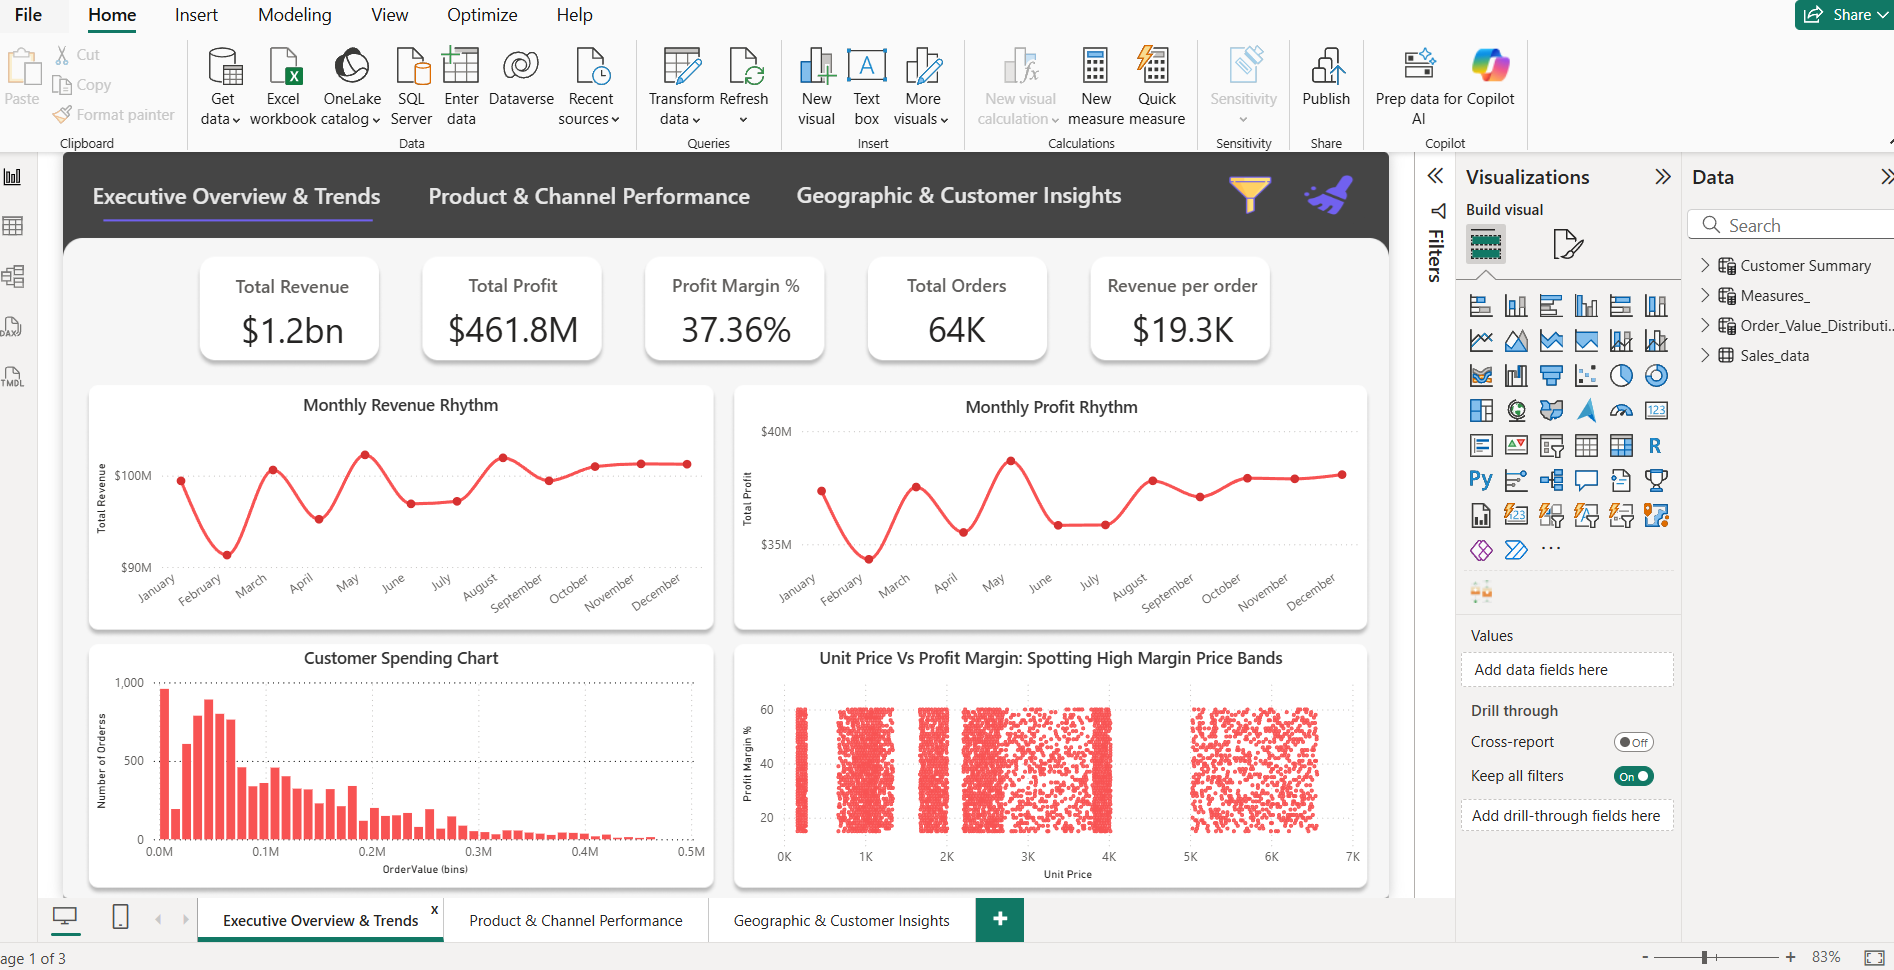

Layout of this report page (visuals, bound fields, positions):
{"tool":"powerbi","page":{"name":"Executive Overview & Trends","canvas":[1280,720],"ordinal":0},"visuals":[{"type":"cardVisual","fields":{"Data":["Measures_.Total Revenue"]},"box":[142,101,158,104],"z":0},{"type":"cardVisual","fields":{"Data":["Measures_.Total Profit"]},"box":[350,100,169.2,103.8],"z":1000},{"type":"cardVisual","fields":{"Data":["Measures_.Profit Margin %"]},"box":[552.6,100,194.9,103.8],"z":2000},{"type":"cardVisual","fields":{"Data":["Measures_.Total Orders"]},"box":[787.2,100,152.6,103.8],"z":3000},{"type":"cardVisual","fields":{"Data":["Measures_.Revenue per order"]},"box":[988.3,100,185,103.3],"z":4000},{"type":"lineChart","title":"Monthly Revenue Rhythm","fields":{"Category":["Sales_data.order_month_name"],"Y":["Measures_.Total Revenue"]},"box":[26.9,233.3,598.7,235.9],"z":5000},{"type":"lineChart","title":"Monthly Profit Rhythm","fields":{"Category":["Sales_data.order_month_name"],"Y":["Measures_.Total Profit"]},"box":[650,234.6,607.7,234.6],"z":6000},{"type":"scatterChart","title":"Unit Price Vs Profit Margin: Spotting High Margin Price Bands","fields":{"X":["Sales_data.unit_price"],"Y":["Sales_data.profit_margin_pct"]},"box":[650,476.9,606.4,232.1],"z":7000},{"type":"columnChart","title":"Customer Spending Chart","fields":{"Category":["Order_Value_Distribution.OrderValue (bins)"],"Y":["CountNonNull(Order_Value_Distribution.order_number)"]},"box":[26.5,476.5,599.6,226.8],"z":8000},{"type":"actionButton","box":[337.2,14.1,342.3,55.1],"z":10000},{"type":"actionButton","box":[9,14.1,317.9,55.1],"z":11000},{"type":"actionButton","box":[693.8,13.8,342.5,55],"z":12000},{"type":"actionButton","box":[1188,14,70,55],"z":14000},{"type":"actionButton","box":[1120,21,53,42],"z":14500}]}

Visuals, with their boxes on the page's 1280x720 design canvas (x1, y1, x2, y2). These are canvas units, not pixel positions in the 1894x970 screenshot, which may show the page scaled, cropped or inside an application window:
cardVisual - Measures_.Total Revenue: 142,101,300,205
cardVisual - Measures_.Total Profit: 350,100,519,204
cardVisual - Measures_.Profit Margin %: 553,100,748,204
cardVisual - Measures_.Total Orders: 787,100,940,204
cardVisual - Measures_.Revenue per order: 988,100,1173,203
"Monthly Revenue Rhythm" lineChart: 27,233,626,469
"Monthly Profit Rhythm" lineChart: 650,235,1258,469
"Unit Price Vs Profit Margin: Spotting High Margin Price Bands" scatterChart: 650,477,1256,709
"Customer Spending Chart" columnChart: 26,476,626,703
actionButton: 337,14,680,69
actionButton: 9,14,327,69
actionButton: 694,14,1036,69
actionButton: 1188,14,1258,69
actionButton: 1120,21,1173,63
